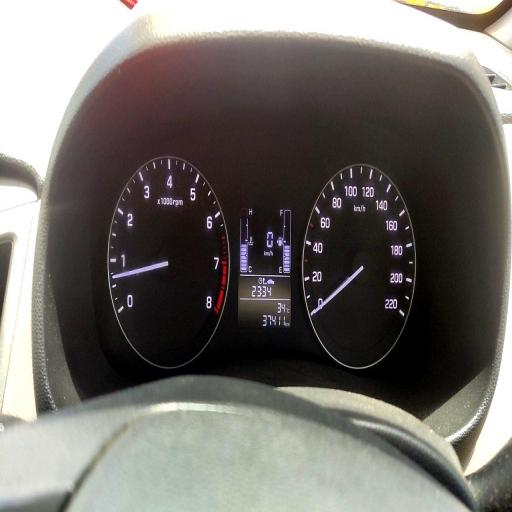tachometer: (107, 153, 230, 369)
